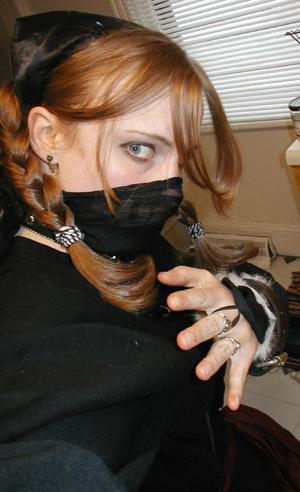OK: (57, 125, 190, 258)
